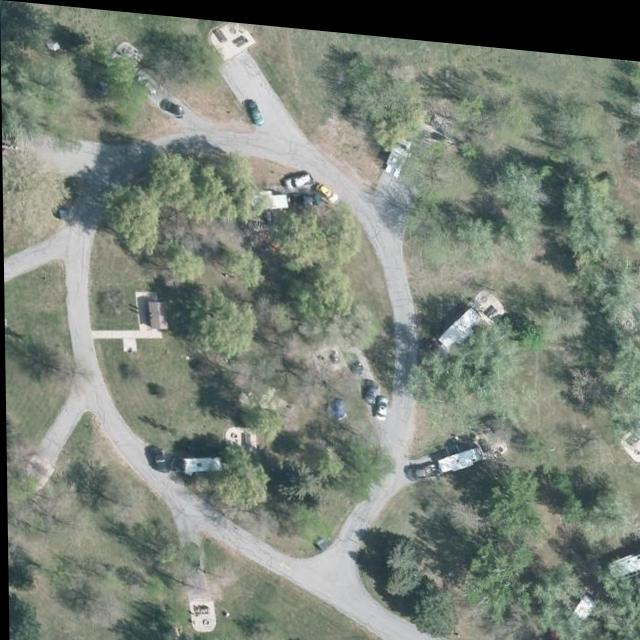vehicle: (400, 452, 440, 477), (91, 65, 122, 97), (284, 163, 316, 191), (240, 94, 267, 124), (177, 537, 200, 569), (133, 71, 161, 95), (147, 443, 171, 470), (160, 94, 184, 117), (288, 187, 320, 202), (167, 453, 193, 471), (360, 372, 377, 399), (315, 177, 337, 197), (373, 388, 386, 415)
